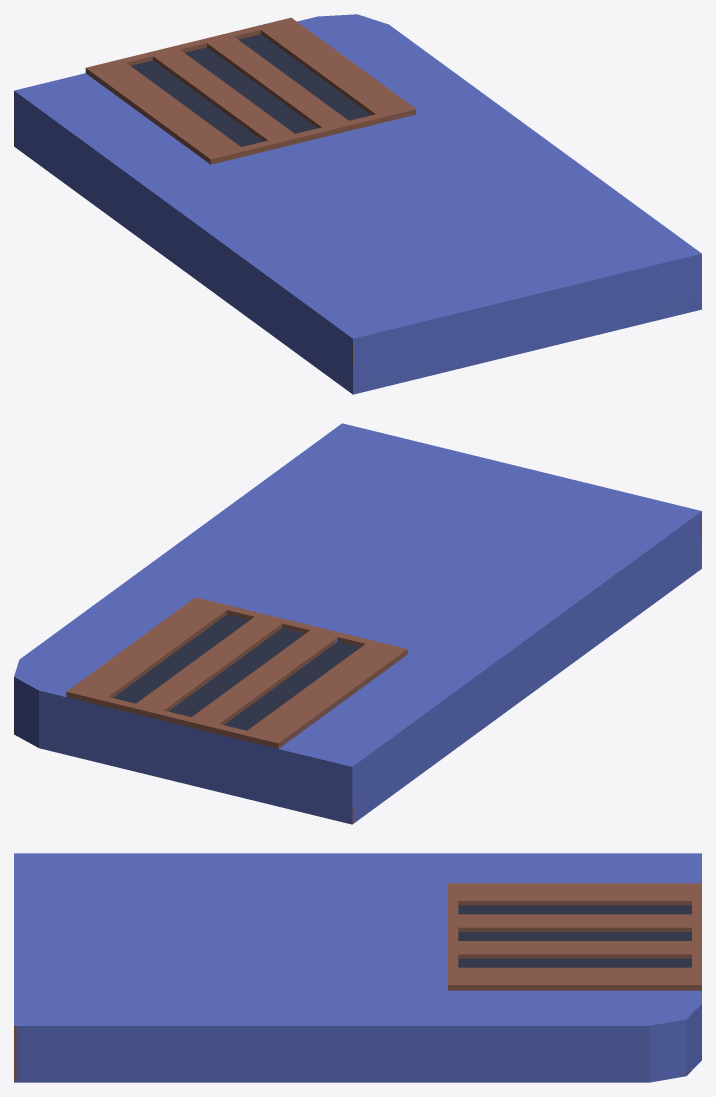
Rendered from Key.fbx.
3 views of the same model, one above another, from view 1: azimuth 30°, elevation 25°; view 2: azimuth 150°, elevation 25°; view 3: azimuth 270°, elevation 25° (orthographic). The views are drawn at different scales.
Parts seen in each view (by area): view 1: Cube; view 2: Cube; view 3: Cube.
Part boxes in pixels (box(x1,y1,x2,y2)): Cube: box(14, 14, 701, 394); Cube: box(14, 423, 701, 824); Cube: box(14, 853, 701, 1082).
Bounding box in the file's own units: 119 × 19.94 × 200.
1 material, 1 textured.
